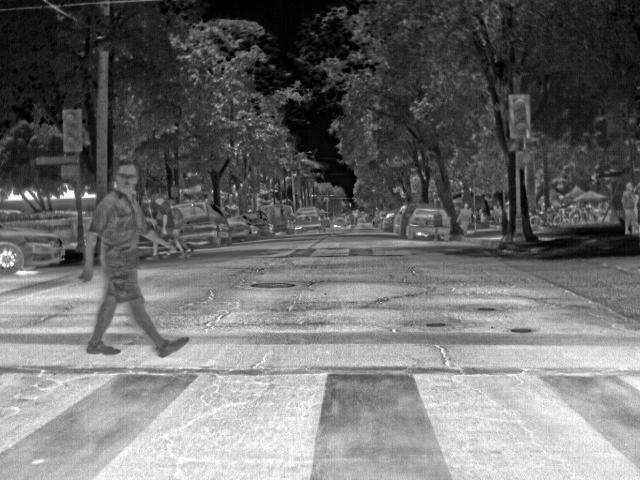car: (3, 224, 70, 273), (178, 200, 231, 246), (407, 206, 453, 241), (262, 204, 298, 236), (291, 206, 326, 232), (246, 210, 275, 238), (229, 218, 261, 241), (393, 206, 410, 234)
person: (75, 164, 189, 360), (621, 181, 639, 238), (149, 195, 171, 237), (457, 200, 476, 234)
